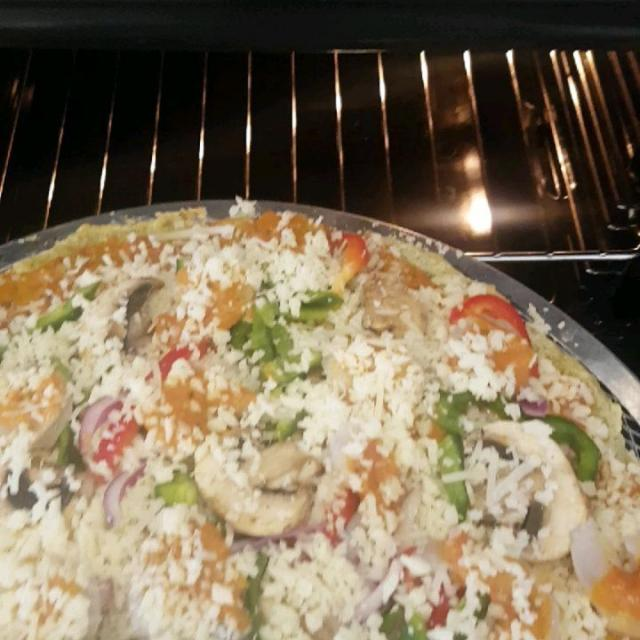mushrooms: (469, 416, 588, 566), (190, 422, 326, 542), (74, 276, 165, 386)
pizza: (0, 202, 640, 640)
